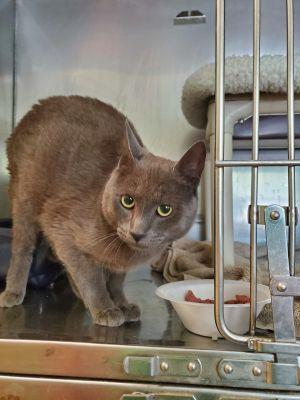rblue: (93, 116, 218, 265)
